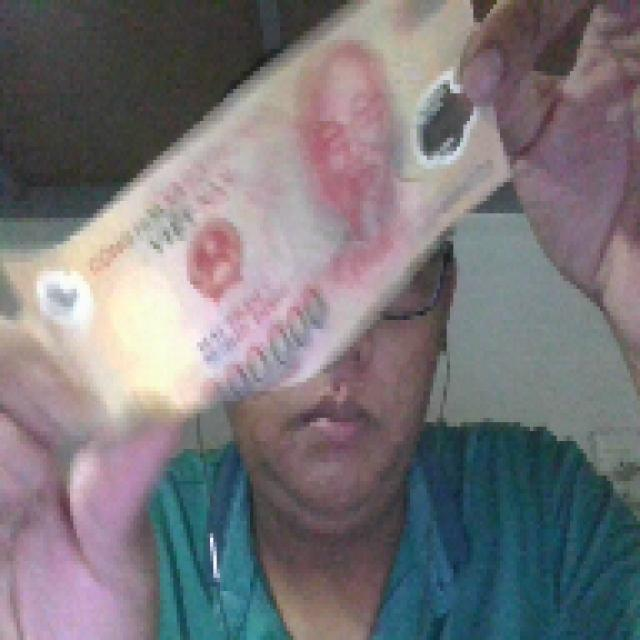200 000 VND: (10, 0, 517, 431)
